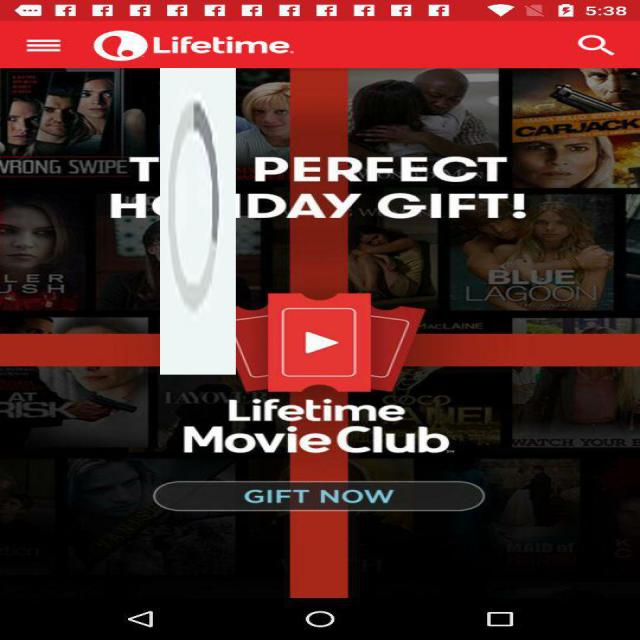misdirection: (160, 68, 236, 375)
